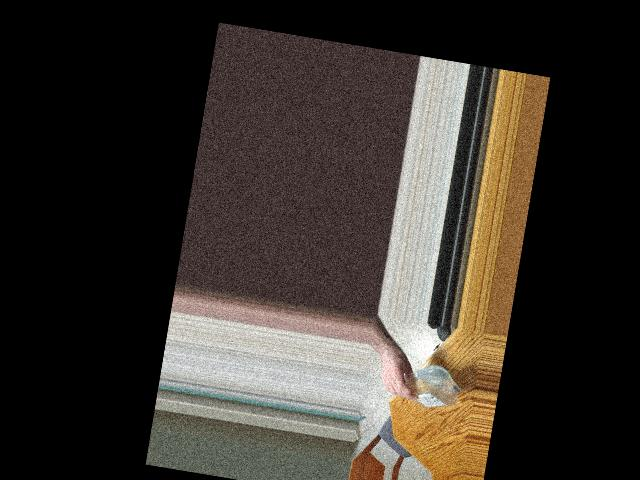cheese: (390, 364, 459, 410)
